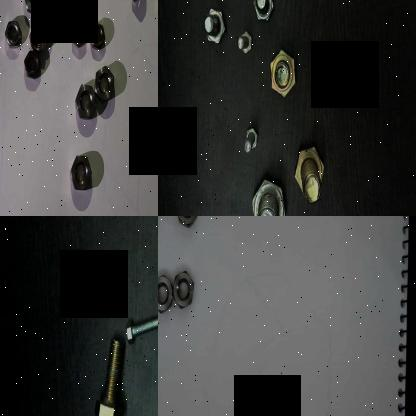Bolts: (91, 331, 128, 416), (290, 132, 326, 208), (248, 167, 288, 216), (264, 40, 296, 99), (125, 305, 158, 347), (196, 5, 223, 44), (238, 120, 260, 164), (233, 26, 253, 66), (249, 0, 273, 24)
NUTS: (72, 79, 98, 123), (70, 151, 94, 193), (170, 268, 194, 309), (93, 66, 116, 104), (28, 20, 50, 54), (20, 48, 42, 80), (4, 17, 22, 54), (158, 273, 173, 317), (88, 20, 108, 52), (35, 0, 56, 29), (68, 17, 88, 47), (173, 216, 199, 230), (21, 0, 43, 14), (129, 0, 147, 7)
